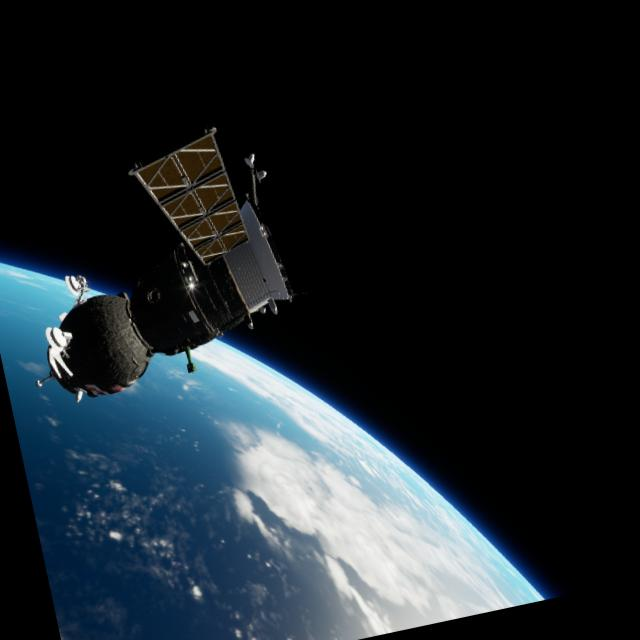Satellites revolving around earth: (0, 113, 310, 414)
